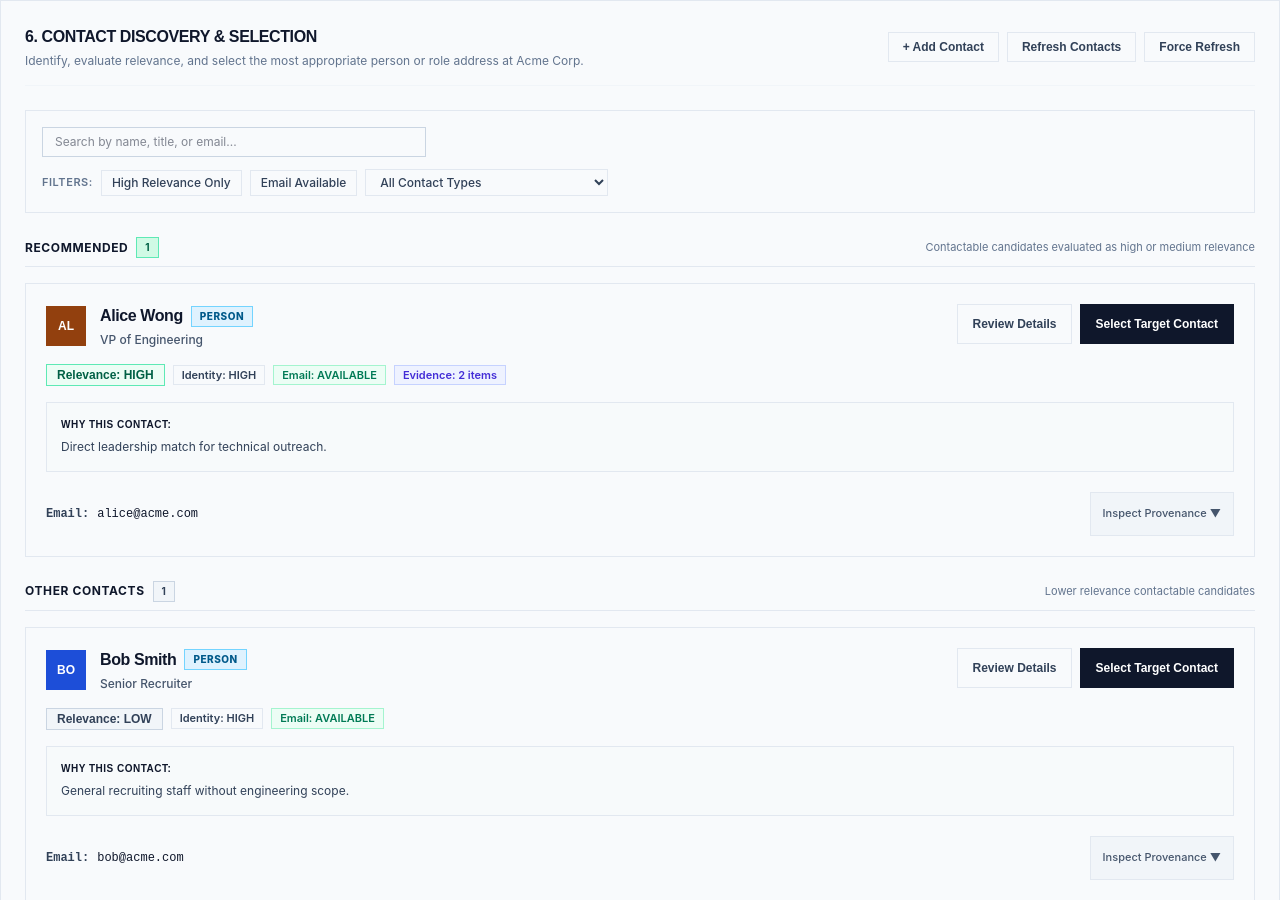
Test: ContactDiscoveryWorkspace Component - UX-004 Contact Discovery & Selection › BL-011 Server Bucket Rendering & Provenance Invariants › preserves bucket identity when filtering by search input
The image size is (1280, 900).
Expected: the heading "Alice Wong" is shown, [100, 304, 183, 328]
Search for "Alice"
Type "Alice" into the field with placeholder "Search by name, title, or email..." at (234, 142), box [42, 127, 426, 157]
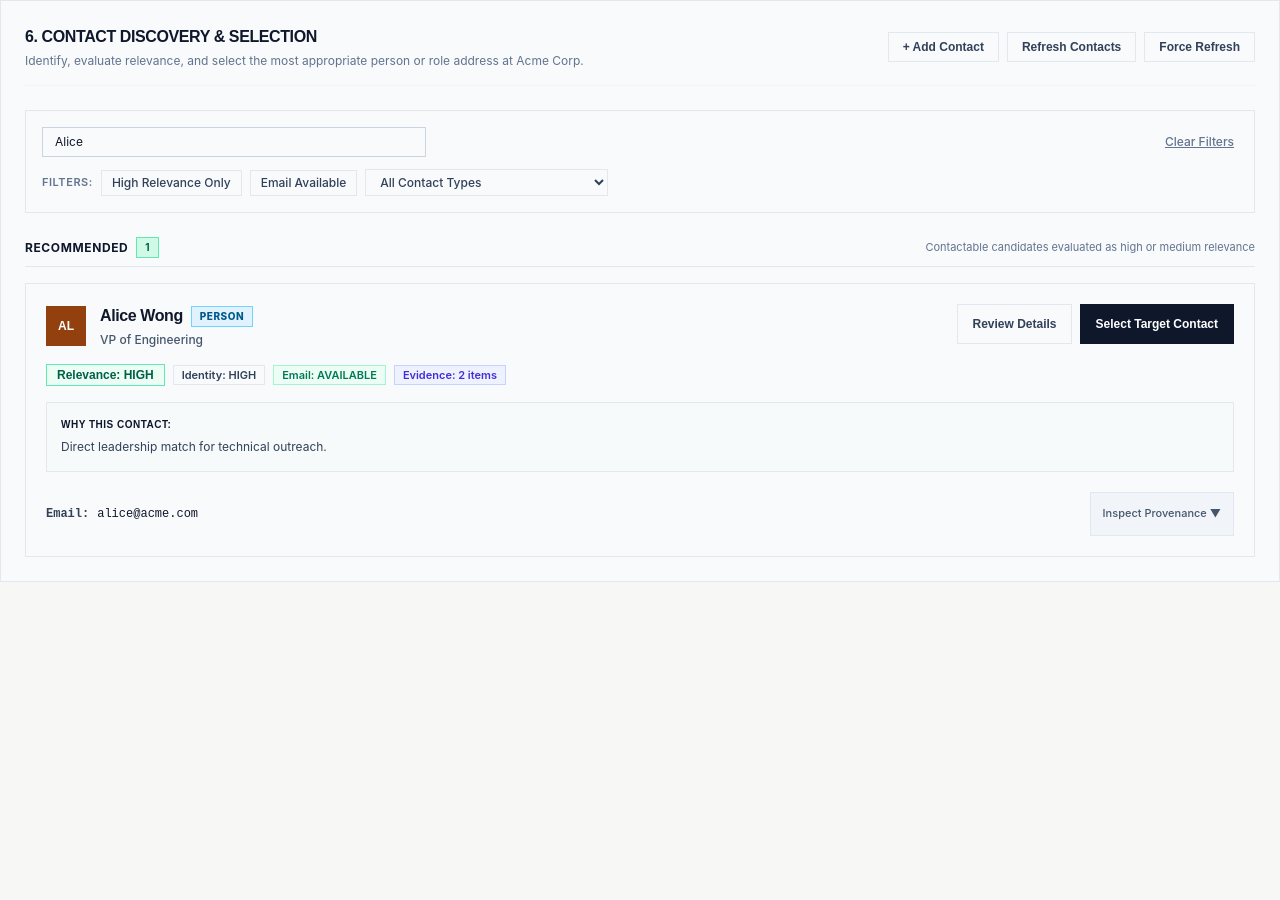
Expected: the heading "Recommended" is shown, [25, 240, 128, 256]
Expected: the heading "Other Contacts" is gone
